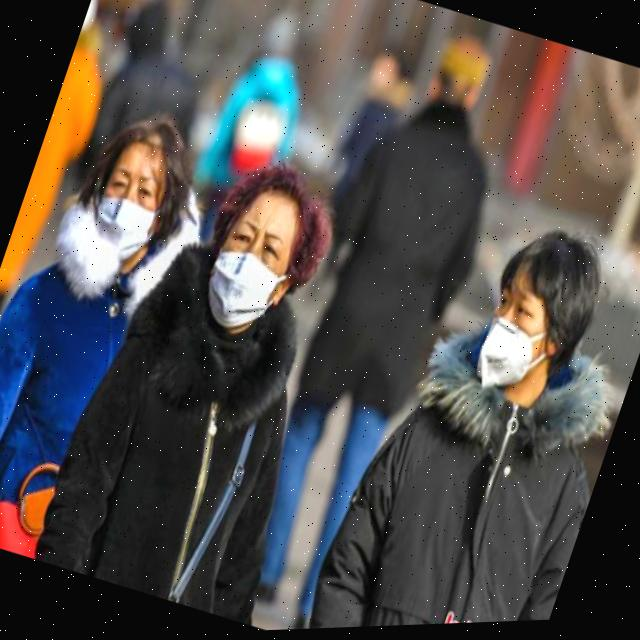Mask: (193, 228, 304, 343), (466, 308, 564, 413), (78, 181, 172, 276)
